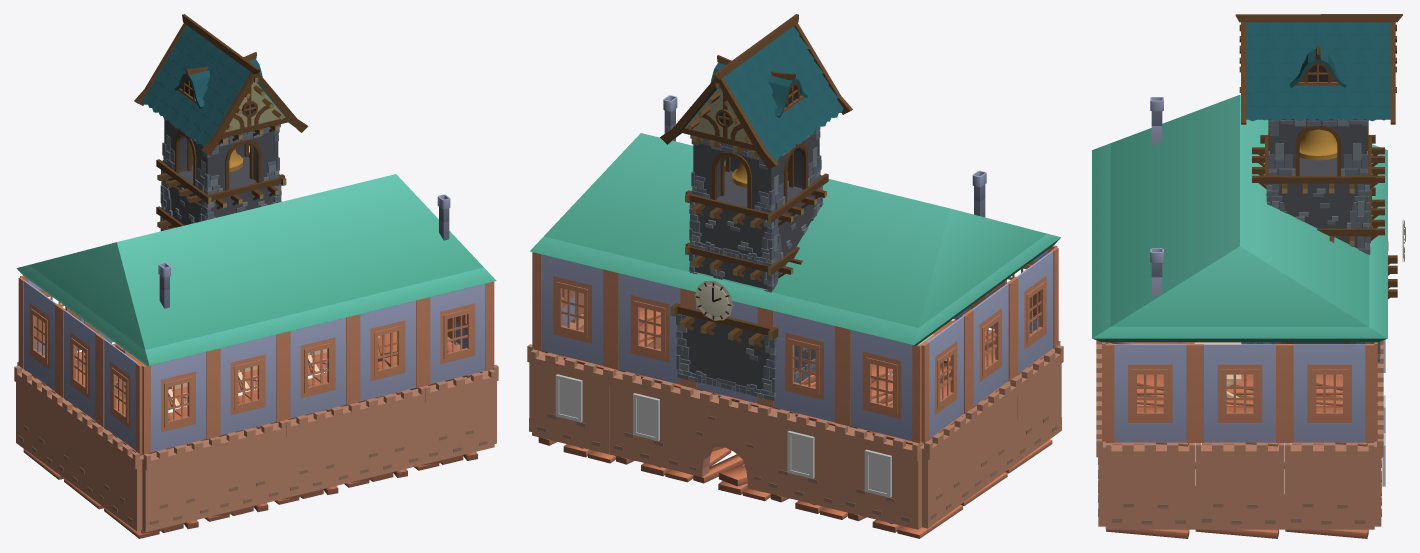
Rendered from london_bld_town_hall.glb.
The picture shows the model from 3 angles, left to right: view 1: azimuth 30°, elevation 25°; view 2: azimuth 150°, elevation 25°; view 3: azimuth 270°, elevation 25°; orthographic projection. The views are drawn at different scales.
Visible parts, largest first — view 1: wall-window-shutters (×8), TallWallBricks_Cube.040 (×8), roof-gable (×3), Bell_Tower, roof-gable-end (×2), platform-planks; view 2: wall-window-shutters (×8), Bell_Tower, TallWallBricks_Cube.040 (×7), roof-gable-end (×2), roof-gable (×3), TallWallEntrance_Cube.037, WindowSquare_Cube.007 (×4), platform-planks (×3), shield-round; view 3: Bell_Tower, roof-gable-end (×2), wall-window-shutters (×5), TallWallBricks_Cube.040 (×5), roof-gable (×3), platform-planks (×6), chimney-top.
Boxes of the visible parts, bbox=[...] form: wall-window-shutters (×8): bbox=[18, 277, 492, 454]; TallWallBricks_Cube.040 (×8): bbox=[14, 365, 495, 532]; roof-gable (×3): bbox=[152, 182, 427, 348]; Bell_Tower: bbox=[134, 14, 308, 231]; roof-gable-end (×2): bbox=[16, 174, 496, 366]; platform-planks: bbox=[104, 507, 198, 538]; wall-window-shutters (×8): bbox=[533, 247, 1058, 443]; Bell_Tower: bbox=[660, 14, 852, 400]; TallWallBricks_Cube.040 (×7): bbox=[530, 345, 1063, 529]; roof-gable-end (×2): bbox=[530, 133, 1060, 345]; roof-gable (×3): bbox=[606, 142, 911, 326]; TallWallEntrance_Cube.037: bbox=[685, 387, 764, 492]; WindowSquare_Cube.007 (×4): bbox=[555, 374, 891, 497]; platform-planks (×3): bbox=[616, 447, 962, 538]; shield-round: bbox=[695, 280, 732, 320]; Bell_Tower: bbox=[1235, 14, 1402, 362]; roof-gable-end (×2): bbox=[1092, 95, 1387, 342]; wall-window-shutters (×5): bbox=[1102, 342, 1377, 442]; TallWallBricks_Cube.040 (×5): bbox=[1096, 403, 1383, 529]; roof-gable (×3): bbox=[1092, 114, 1387, 300]; platform-planks (×6): bbox=[1106, 374, 1368, 538]; chimney-top: bbox=[1150, 248, 1163, 277].
Size of the model in its own units: 20.82 by 21.15 by 14.01.
27 materials, 6 textured.
